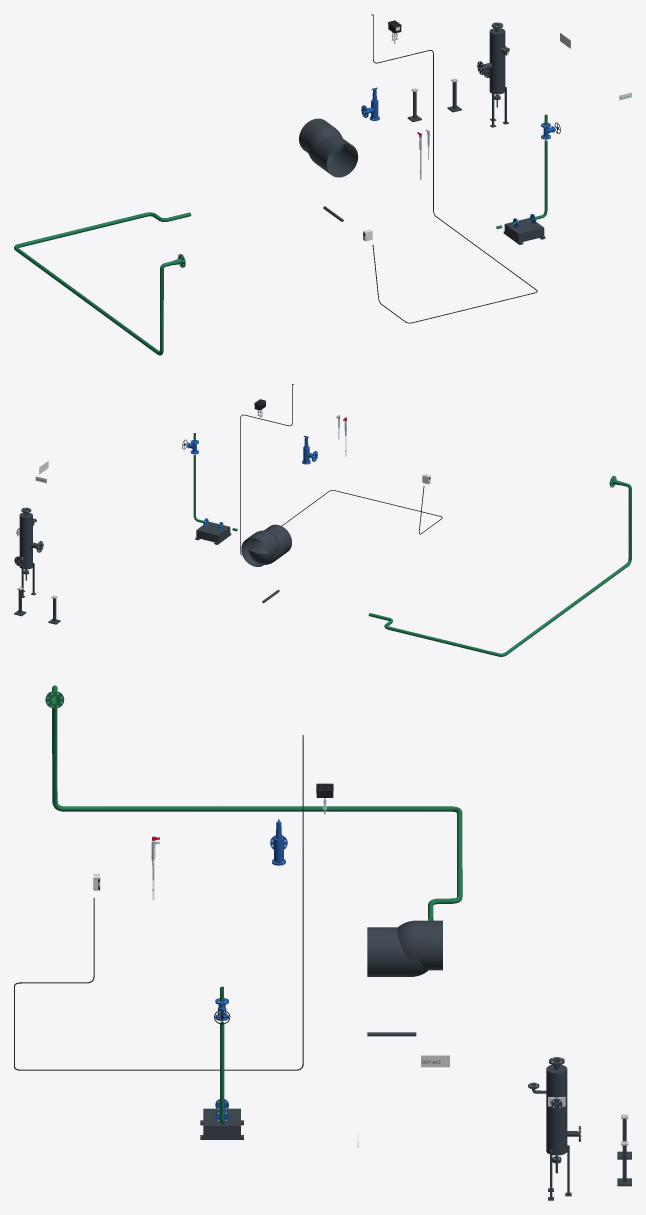
3 views of the same model, one above another, from view 1: azimuth 30°, elevation 25°; view 2: azimuth 150°, elevation 25°; view 3: azimuth 270°, elevation 25° (orthographic). The views are drawn at different scales.
Parts seen in each view (by area): view 1: flue_spacer / dark, deaerator_feed / green, separator_fv8 / dark, gpz_drive_cable / black, pump_branch_1 / dark; view 2: deaerator_feed / green, flue_spacer / dark, separator_fv8 / dark, gpz_drive_cable / black, pump_branch_1 / dark; view 3: deaerator_feed / green, flue_spacer / dark, separator_fv8 / dark, gpz_drive_cable / black, pump_branch_1 / dark.
Boxes of the visible parts, x1,y1,x2,y2 form: flue_spacer / dark: [299, 118, 358, 177]; deaerator_feed / green: [14, 212, 191, 355]; separator_fv8 / dark: [477, 22, 509, 127]; gpz_drive_cable / black: [371, 14, 537, 323]; pump_branch_1 / dark: [503, 218, 545, 244]; deaerator_feed / green: [368, 475, 631, 656]; flue_spacer / dark: [241, 524, 291, 566]; separator_fv8 / dark: [14, 507, 43, 597]; gpz_drive_cable / black: [240, 384, 442, 555]; pump_branch_1 / dark: [195, 521, 231, 544]; deaerator_feed / green: [45, 685, 462, 920]; flue_spacer / dark: [367, 920, 442, 976]; separator_fv8 / dark: [528, 1057, 580, 1200]; gpz_drive_cable / black: [14, 735, 303, 1070]; pump_branch_1 / dark: [200, 1108, 243, 1139].
Bounding box in the file's own units: 9.48 × 3.57 × 6.37.
